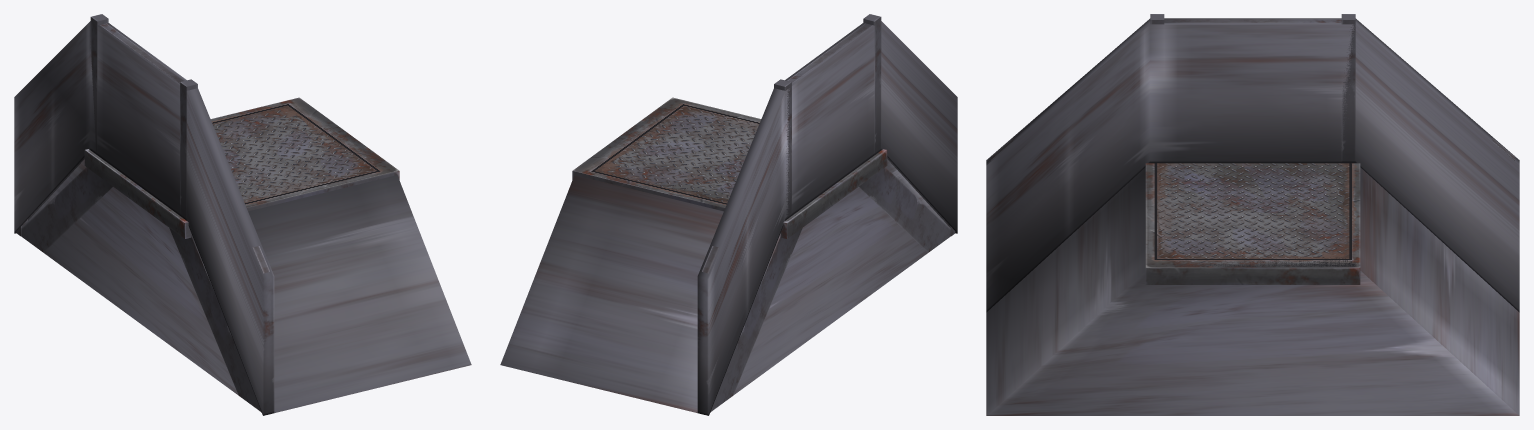
File: stairs04_F.fbx
3 renders of one model, left to right at view 1: azimuth 30°, elevation 25°; view 2: azimuth 150°, elevation 25°; view 3: azimuth 270°, elevation 25°, orthographic. The views are drawn at different scales.
Visible parts, largest first — view 1: stairs04_F_COL, stairs04_F; view 2: stairs04_F_COL, stairs04_F; view 3: stairs04_F_COL, stairs04_F.
Boxes of the visible parts, box(x1,y1,x2,y2) form: stairs04_F_COL: box(14, 21, 471, 415); stairs04_F: box(16, 14, 399, 412); stairs04_F_COL: box(500, 21, 957, 415); stairs04_F: box(572, 14, 955, 412); stairs04_F_COL: box(986, 18, 1519, 415); stairs04_F: box(990, 14, 1515, 284).
Bounding box in the file's own units: 169 × 205 × 339.
